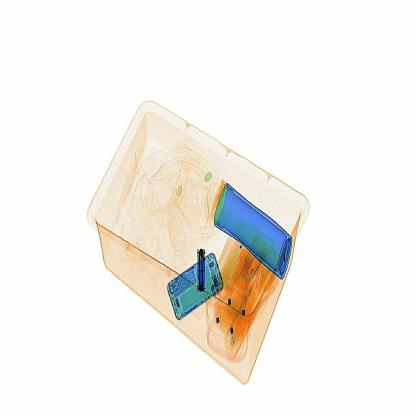scissors: (194, 242, 208, 296)
